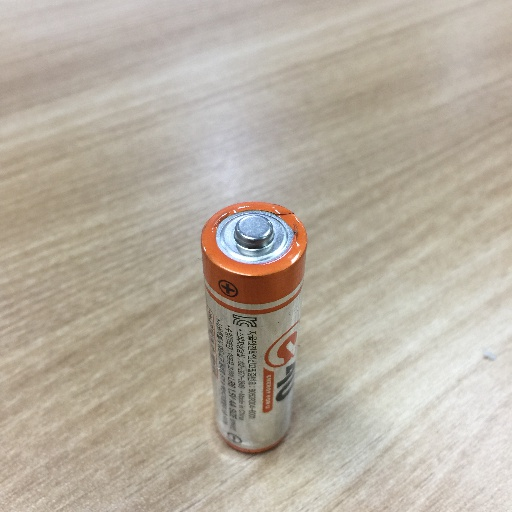Battery_0: (191, 186, 321, 466)
